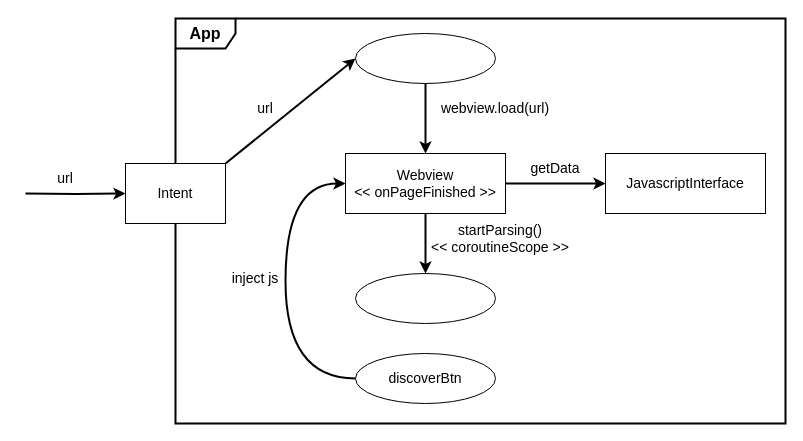
Some shapes in this 803 by 441 pixel diagram are drawn without their labels. Each missing label, with the box of its shape:
extractUrlData: (354, 272, 496, 324)
handleSendIntrent: (354, 32, 496, 84)
